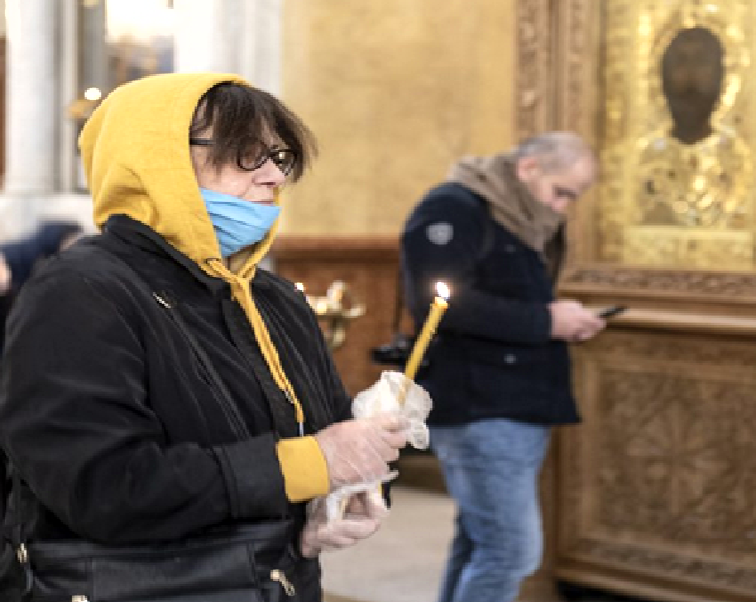mask_weared_incorrect: (85, 72, 300, 257)
